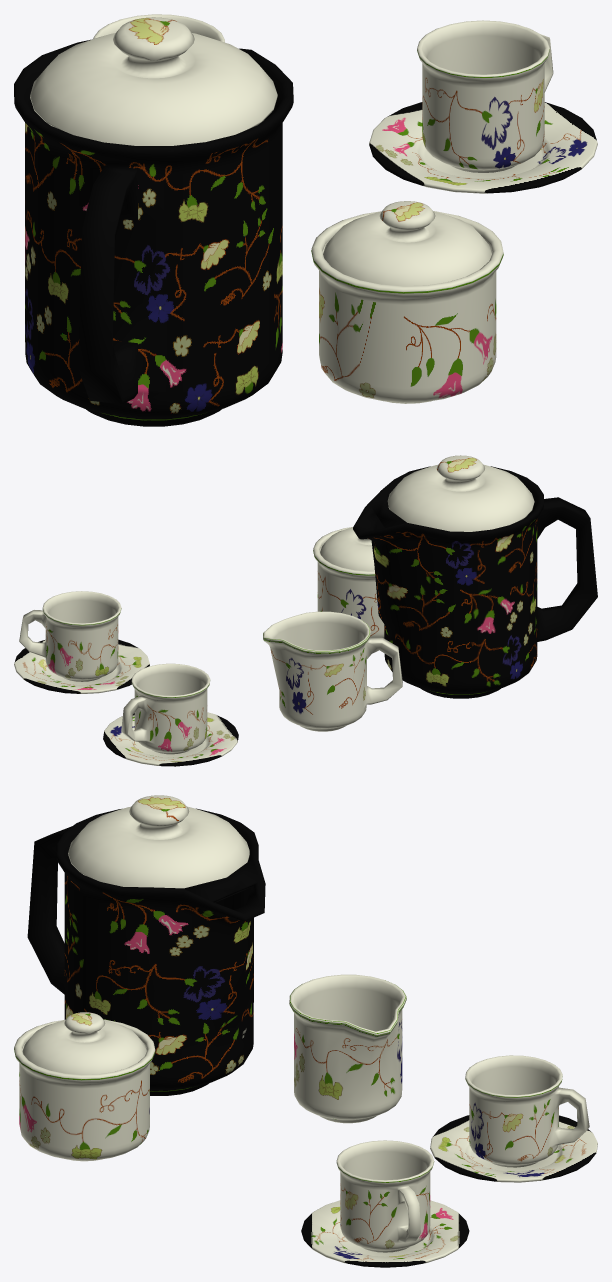
File: beige_teapot_set.glb
3 views of the same model, one above another, from view 1: azimuth 30°, elevation 25°; view 2: azimuth 150°, elevation 25°; view 3: azimuth 270°, elevation 25° (orthographic). The views are drawn at different scales.
Parts seen in each view (by area): view 1: teapot, top_teapot, covered_sugar, cup, top_sugar_pot, plate, cup.001; view 2: teapot, creamer, top_teapot, cup, cup.001, covered_sugar, plate.001, plate, top_sugar_pot; view 3: teapot, creamer, top_teapot, covered_sugar, cup.001, cup, top_sugar_pot, plate, plate.001.
Boxes of the visible parts, box(x1,y1,x2,y2) form: teapot: box(14, 39, 293, 426); top_teapot: box(30, 17, 277, 145); covered_sugar: box(311, 211, 503, 403); cup: box(417, 20, 553, 172); top_sugar_pot: box(323, 201, 491, 286); plate: box(369, 102, 597, 193); cup.001: box(93, 14, 224, 42); teapot: box(353, 466, 597, 698); creamer: box(263, 611, 402, 731); top_teapot: box(387, 455, 534, 531); cup: box(19, 591, 121, 681); cup.001: box(121, 663, 210, 754); covered_sugar: box(313, 527, 384, 638); plate.001: box(103, 712, 238, 766); plate: box(14, 639, 149, 693); top_sugar_pot: box(320, 527, 374, 570); teapot: box(27, 808, 265, 1095); creamer: box(289, 974, 406, 1123); top_teapot: box(68, 795, 249, 888); covered_sugar: box(14, 1019, 155, 1161); cup.001: box(465, 1055, 589, 1167); cup: box(336, 1140, 434, 1252); top_sugar_pot: box(22, 1012, 146, 1074); plate: box(301, 1200, 469, 1267); plate.001: box(430, 1115, 597, 1182).
Size of the model in its own units: 4.13 by 1.96 by 3.87.
3 materials, 3 textured.
